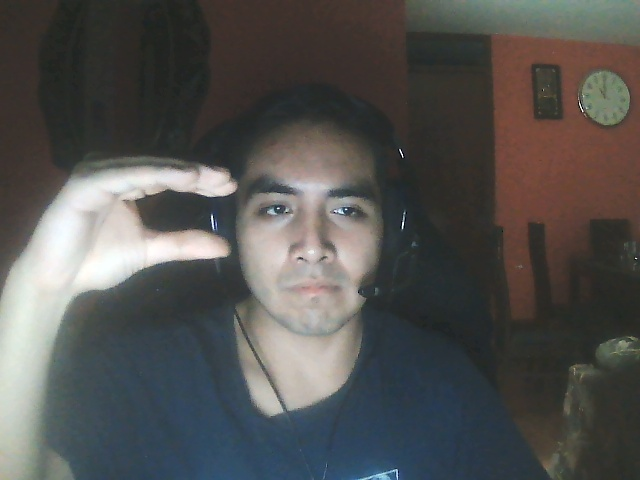no: (38, 140, 245, 292)
